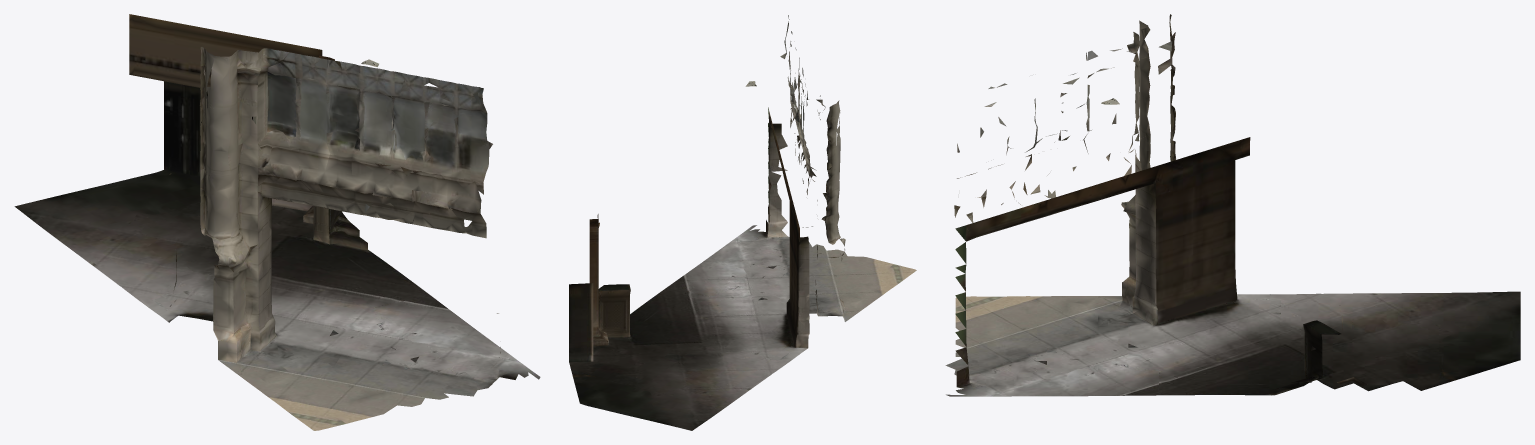
3 views of the same model, side by side, from view 1: azimuth 30°, elevation 25°; view 2: azimuth 150°, elevation 25°; view 3: azimuth 270°, elevation 25° (orthographic). The views are drawn at different scales.
Size of the model in its own units: 6.76 by 10 by 16.06.
Materials: 1 (1 with a texture image).
